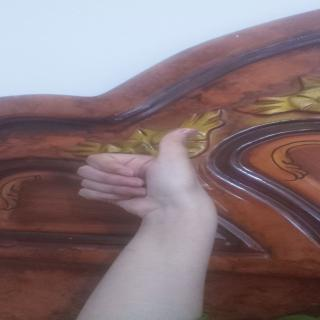ALIF: (74, 124, 233, 220)
